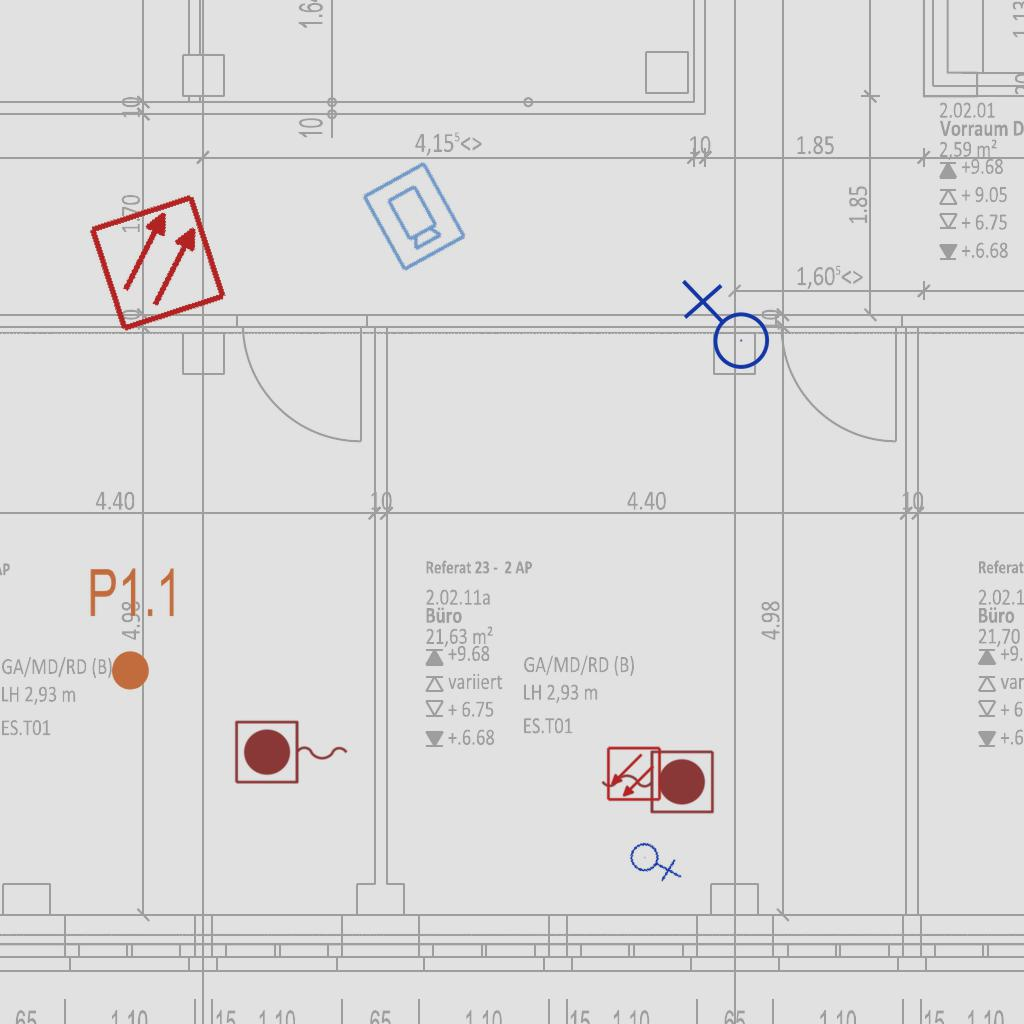Downlight_LED_Einbauleuchten_Flur: (87, 565, 180, 693)
Elektroanschluss_allgemein_230V_Geraeteanschlussdose_230V: (677, 279, 771, 378), (624, 830, 685, 891)
KFO_Kamera_mit_Festobjektiv: (357, 158, 470, 275)
RMO_Rauchmelder_optischer: (86, 191, 229, 334), (606, 746, 662, 802)
Zugtaster: (596, 745, 718, 817), (231, 717, 353, 789)
